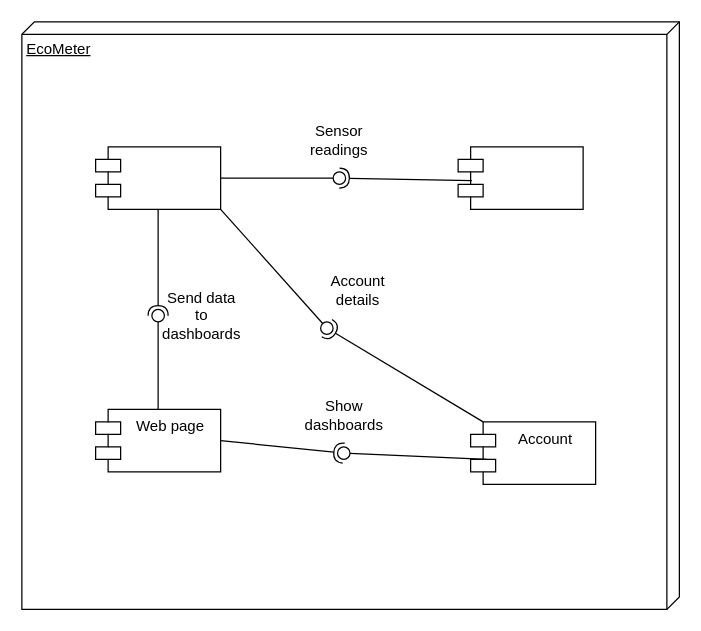
Image size: 701x631. Some labels were removed from this diagram. Here are the shapes that lost their labels. From the top down, the centre of each, then its label:
point (157, 177): Database
point (520, 177): Sensor
